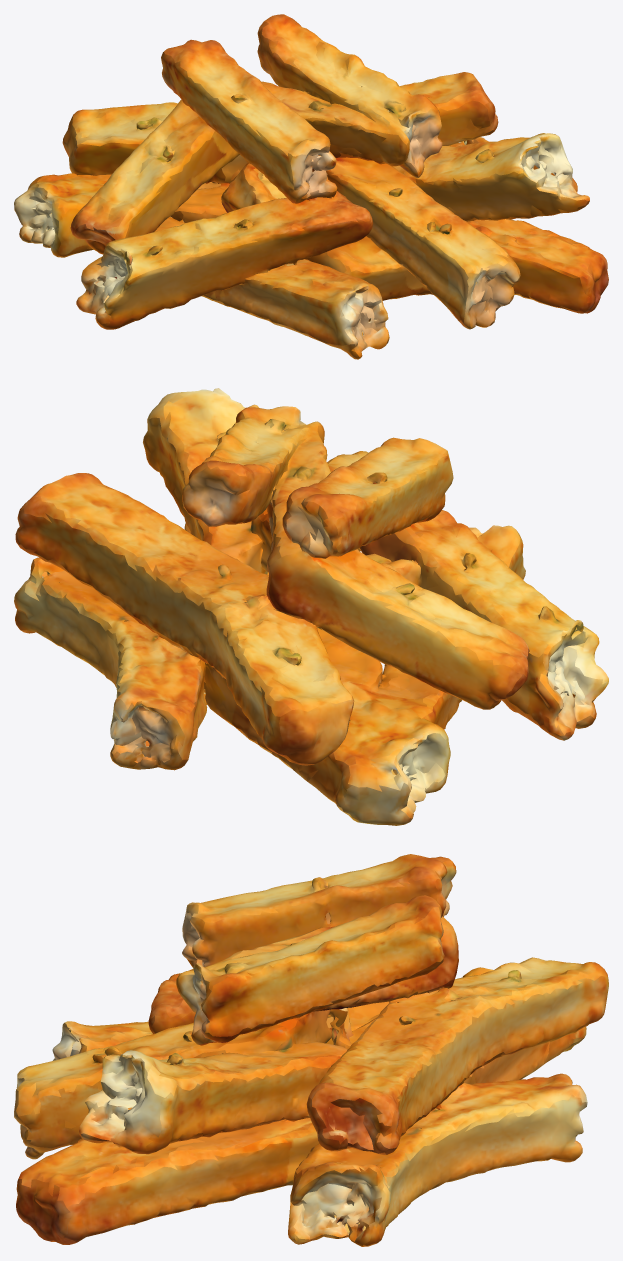
The model's file is rosemary-fries-2.glb.
3 renders of one model, top to bottom at view 1: azimuth 30°, elevation 25°; view 2: azimuth 150°, elevation 25°; view 3: azimuth 270°, elevation 25°, orthographic. The views are drawn at different scales.
Parts seen in each view (by area): view 1: geometry_0; view 2: geometry_0; view 3: geometry_0.
Boxes of the visible parts, x1,y1,x2,y2 form: geometry_0: [14, 14, 608, 359]; geometry_0: [14, 388, 608, 825]; geometry_0: [14, 854, 608, 1246].
Bounding box in the file's own units: 0.075 × 0.0351 × 0.0749.
Materials: 1 (1 with a texture image).
